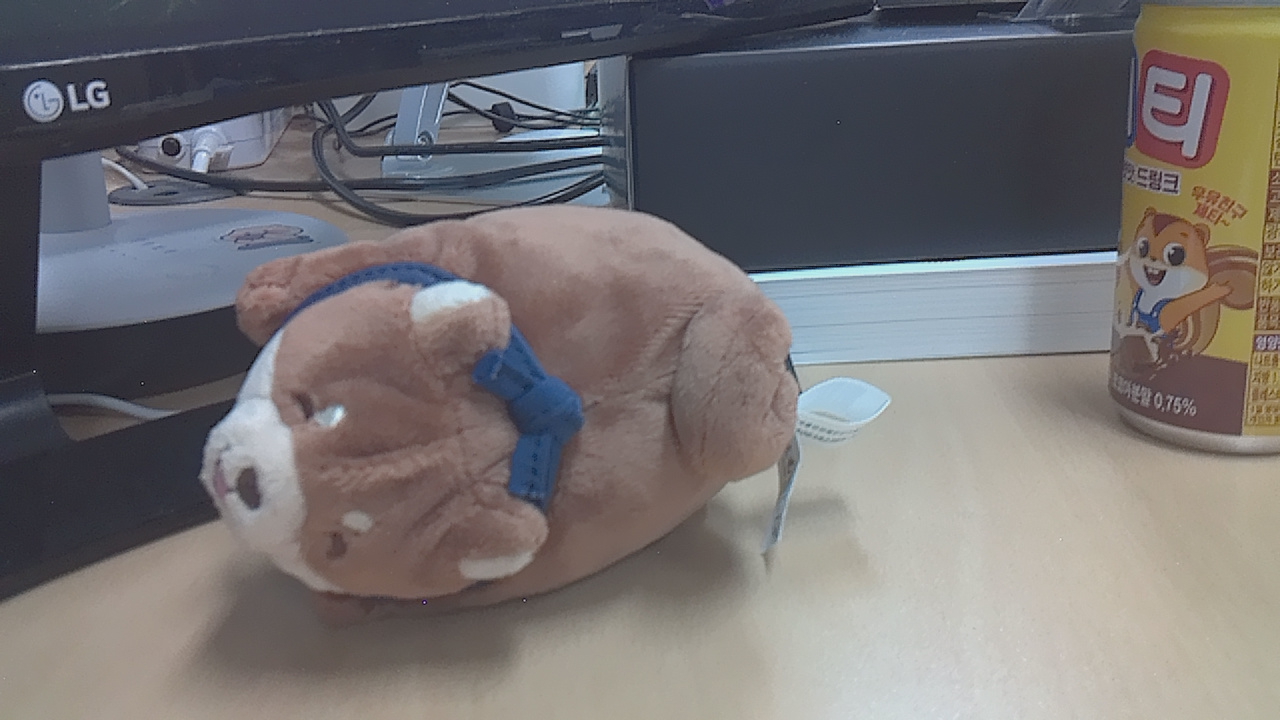cuteDog: (190, 169, 824, 672)
